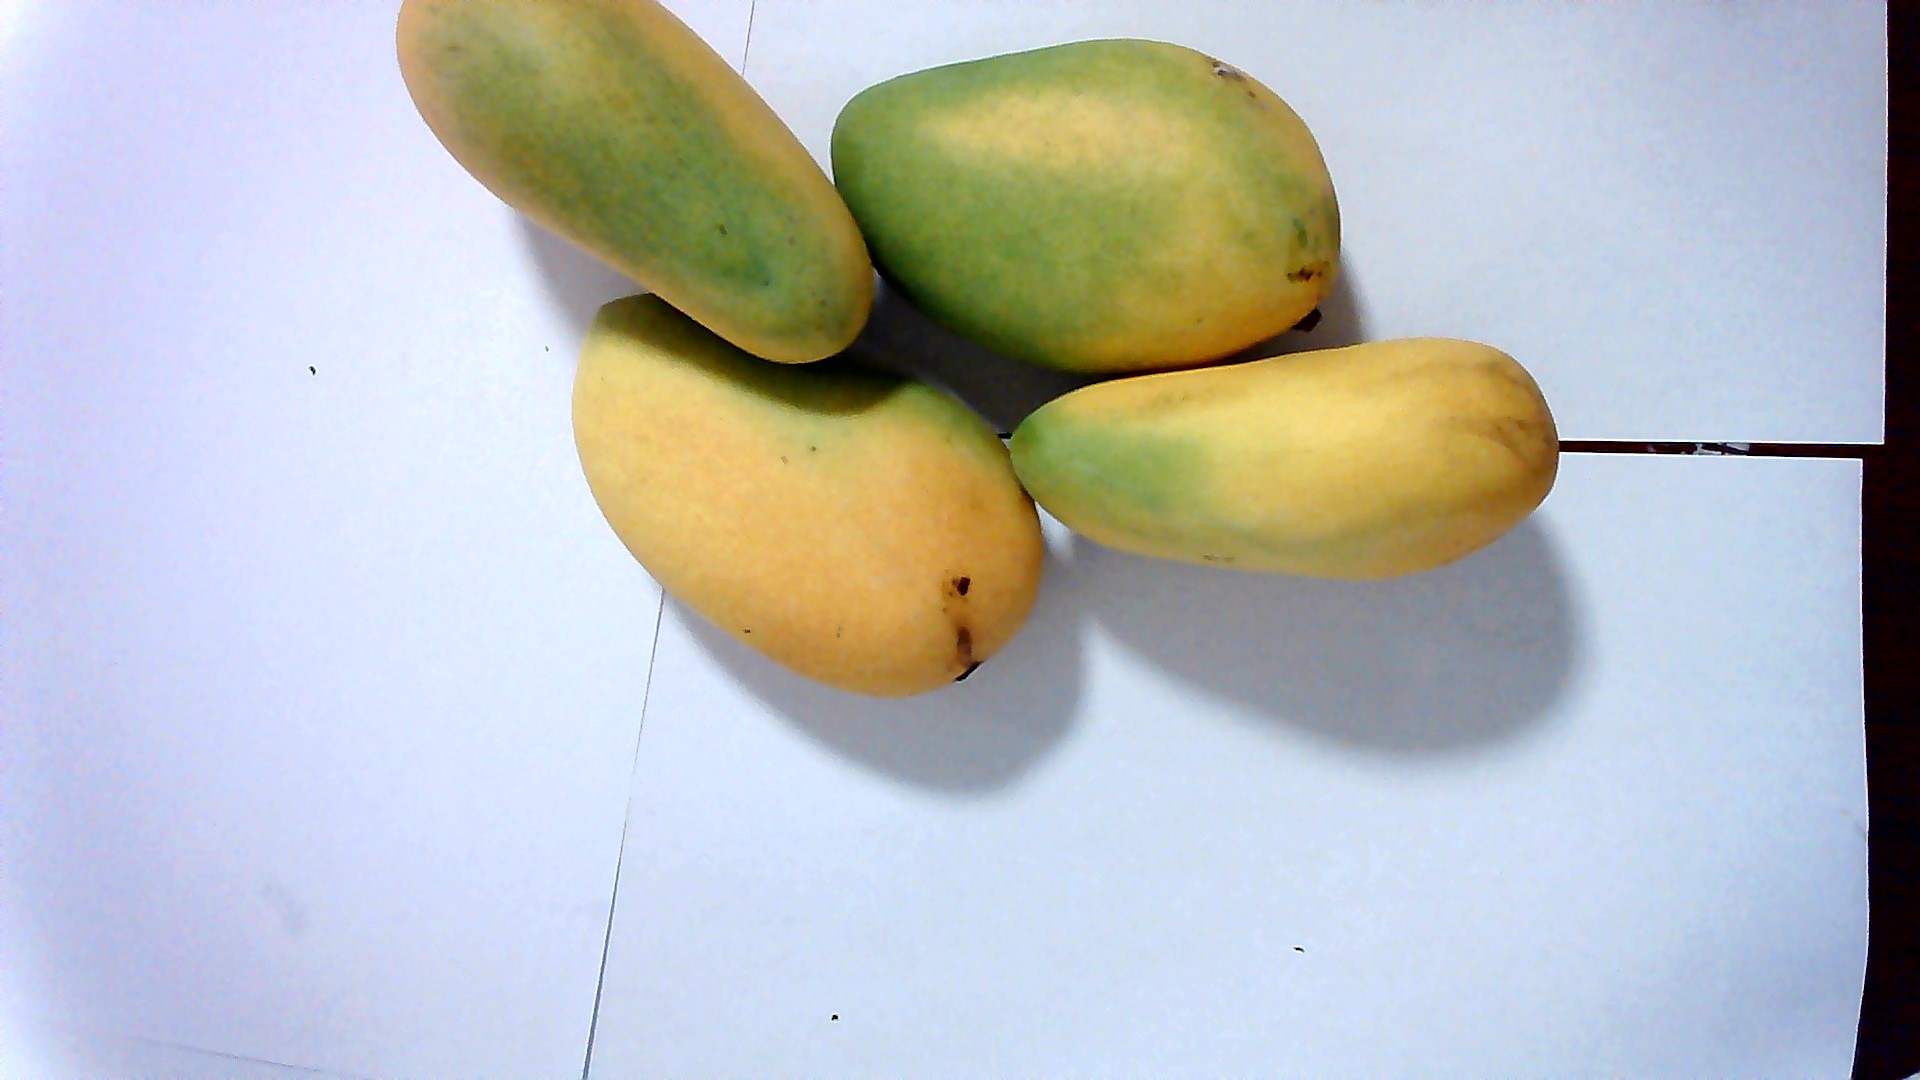mongo: (574, 318, 1063, 687), (382, 5, 878, 360), (831, 37, 1346, 345), (1017, 335, 1563, 592)
